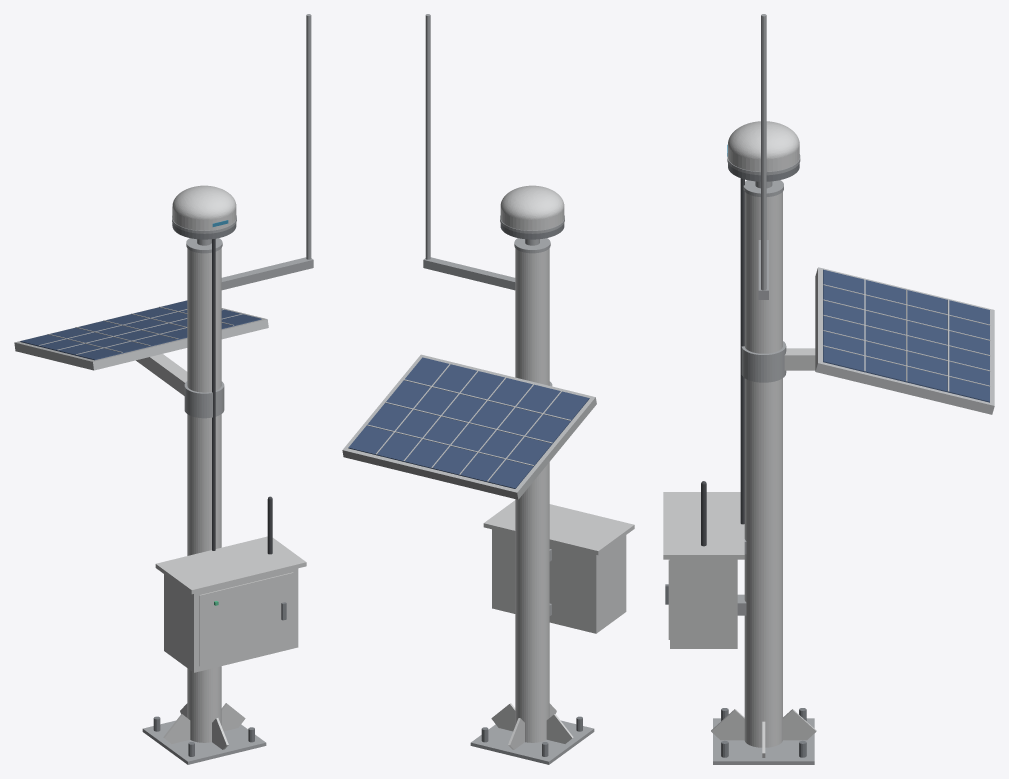
Rendered from stasiun_gnss.glb.
3 views of the same model, side by side, from view 1: azimuth 30°, elevation 25°; view 2: azimuth 150°, elevation 25°; view 3: azimuth 270°, elevation 25° (orthographic). The views are drawn at different scales.
Parts seen in each view (by area): view 1: bagian_0; view 2: bagian_0; view 3: bagian_0.
Part boxes in pixels (box(x1,y1,x2,y2)): bagian_0: box(14, 14, 313, 764); bagian_0: box(342, 14, 634, 764); bagian_0: box(663, 14, 994, 764).
Bounding box in the file's own units: 0.7452 × 2.59 × 0.9787.
